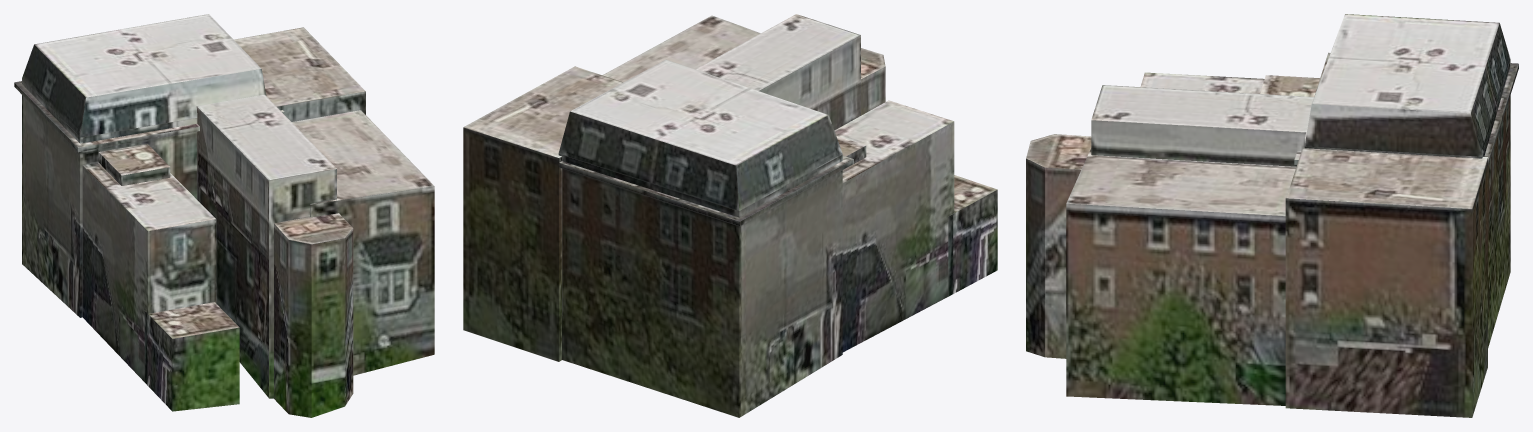
File: Buildings_subset_81.dae
3 views of the same model, side by side, from view 1: azimuth 30°, elevation 25°; view 2: azimuth 150°, elevation 25°; view 3: azimuth 270°, elevation 25° (orthographic). The views are drawn at different scales.
Parts seen in each view (by area): view 1: Buildings_subset_81.dae (×16); view 2: Buildings_subset_81.dae (×10); view 3: Buildings_subset_81.dae (×9).
Boxes of the visible parts, <box> form: Buildings_subset_81.dae (×16): <box>14,14,434,417</box>; Buildings_subset_81.dae (×10): <box>463,14,997,417</box>; Buildings_subset_81.dae (×9): <box>1026,14,1518,417</box>.
Size of the model in its own units: 72.67 by 88.5 by 55.2.
Materials: 2 (1 with a texture image).
